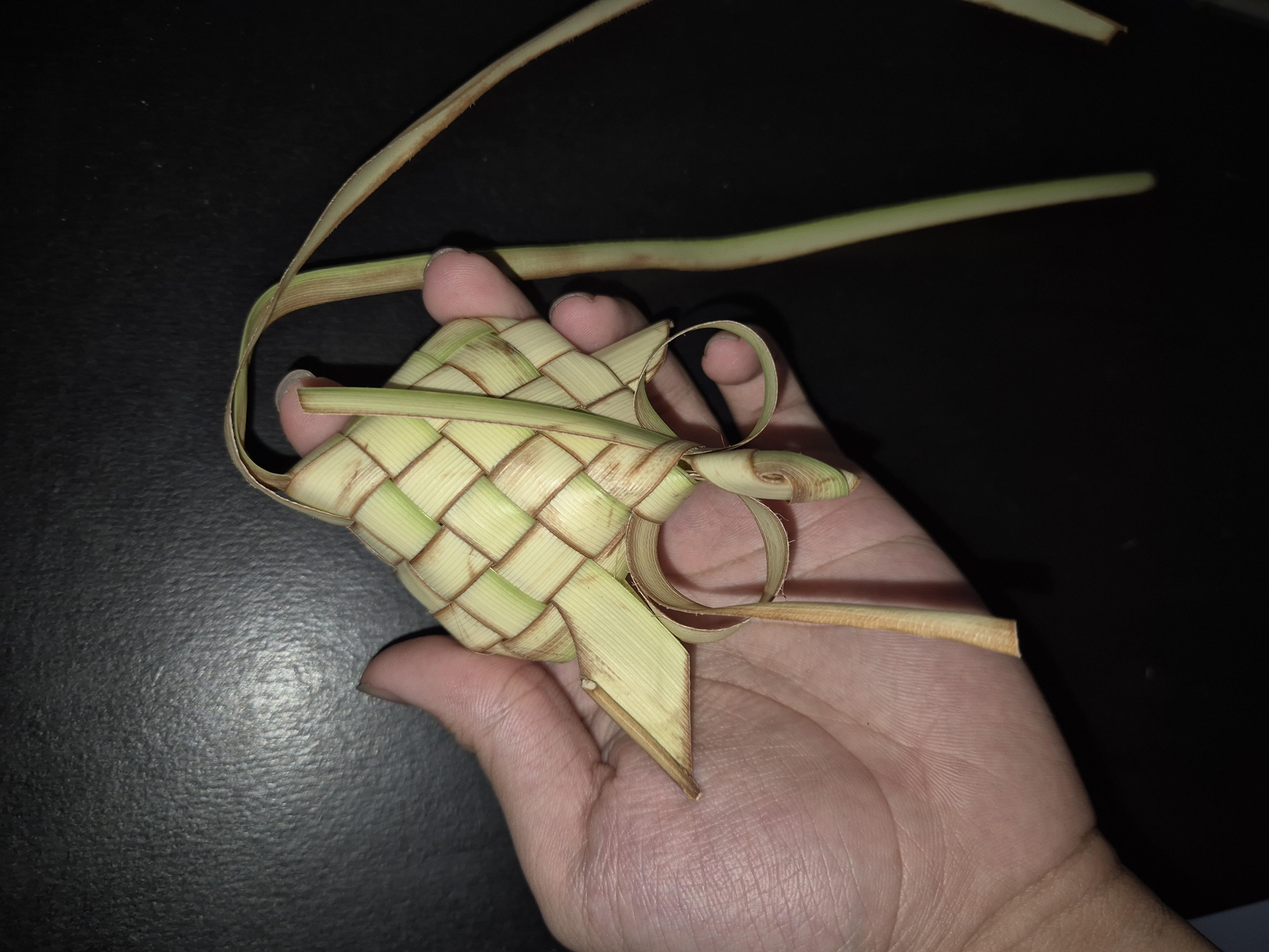Tipat Dampulan: (221, 216, 846, 763)
